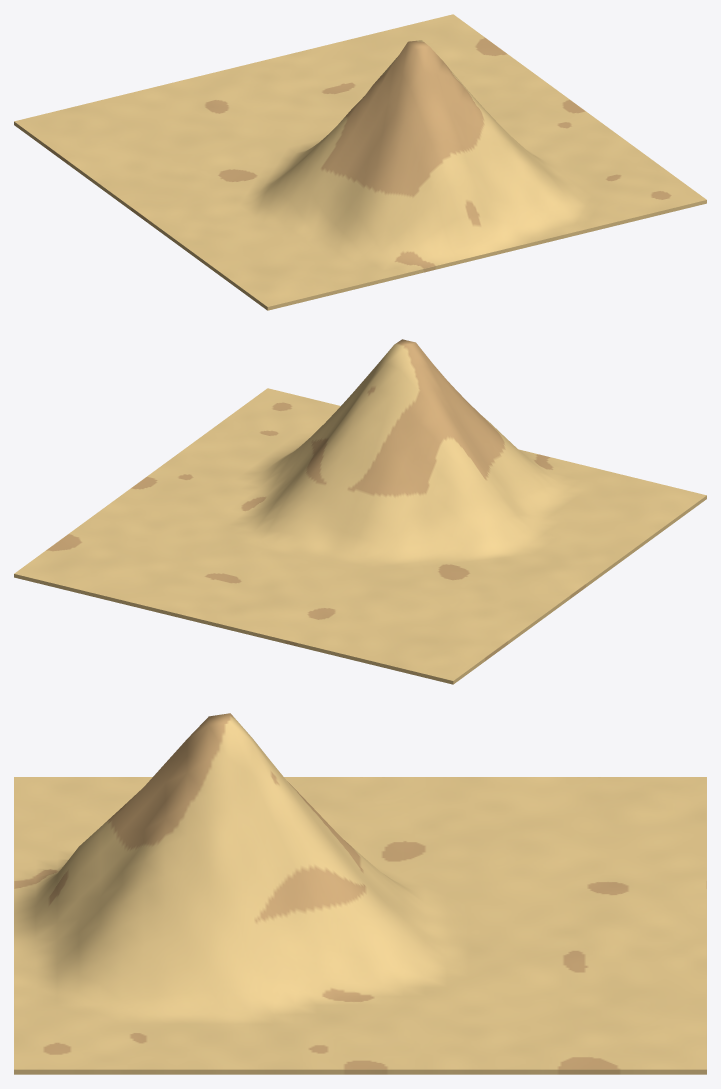
Rendered from Desert_Mountains_10.obj.
The picture shows the model from 3 angles, top to bottom: view 1: azimuth 30°, elevation 25°; view 2: azimuth 150°, elevation 25°; view 3: azimuth 270°, elevation 25°; orthographic projection. The views are drawn at different scales.
Bounding box in the file's own units: 10 × 3.43 × 10.
1 material, 1 textured.
